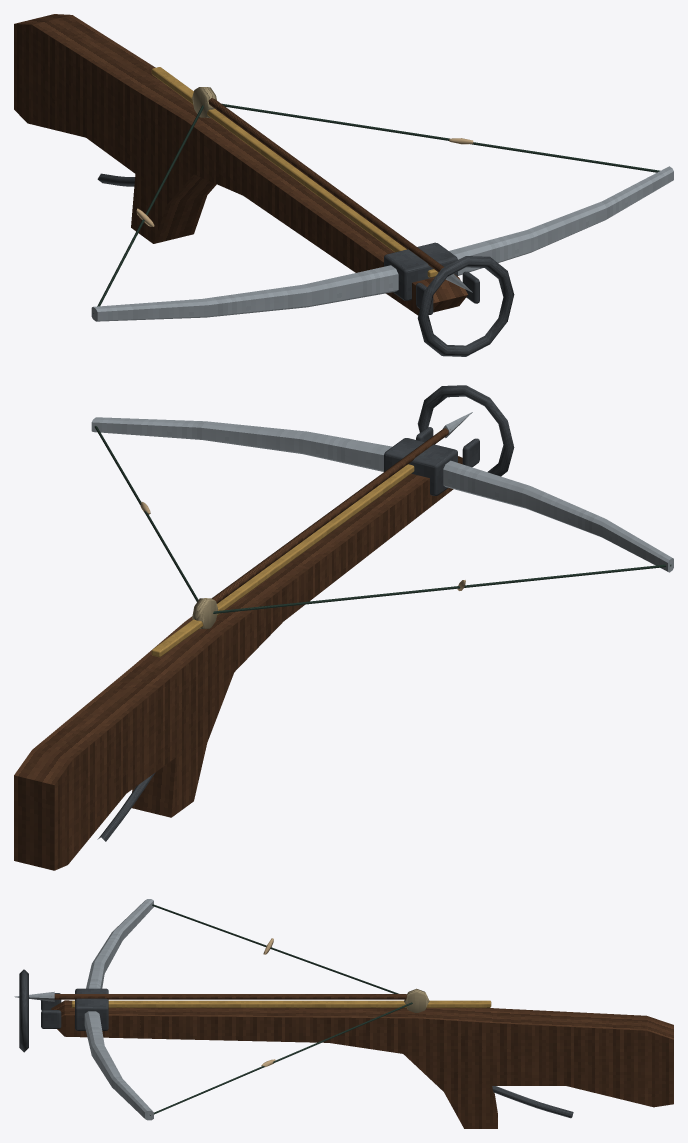
File: crossbow.lod2.glb
3 views of the same model, one above another, from view 1: azimuth 30°, elevation 25°; view 2: azimuth 150°, elevation 25°; view 3: azimuth 270°, elevation 25° (orthographic). The views are drawn at different scales.
Visible parts, largest first — view 1: wood / oiled hardwood, steel / forged blade steel, darksteel / oil-blackened fittings, brass / polished brass furniture, cord / waxed silk cord wrap, horn / polished horn and bone; view 2: wood / oiled hardwood, steel / forged blade steel, darksteel / oil-blackened fittings, brass / polished brass furniture, cord / waxed silk cord wrap; view 3: wood / oiled hardwood, steel / forged blade steel, darksteel / oil-blackened fittings, brass / polished brass furniture, cord / waxed silk cord wrap, horn / polished horn and bone.
Part boxes in pixels (x1,y1,x2,y2): wood / oiled hardwood: (14,14,467,315); steel / forged blade steel: (91,166,673,321); darksteel / oil-blackened fittings: (97,173,514,356); brass / polished brass furniture: (151,67,438,277); cord / waxed silk cord wrap: (93,103,660,313); horn / polished horn and bone: (192,87,216,117); wood / oiled hardwood: (14,428,462,870); steel / forged blade steel: (91,412,673,572); darksteel / oil-blackened fittings: (97,385,514,841); brass / polished brass furniture: (151,464,414,657); cord / waxed silk cord wrap: (94,426,671,613); wood / oiled hardwood: (51,994,673,1128); steel / forged blade steel: (14,899,153,1120); darksteel / oil-blackened fittings: (19,969,573,1118); brass / polished brass furniture: (71,1000,491,1007); cord / waxed silk cord wrap: (150,904,412,1115); horn / polished horn and bone: (404,988,429,1012).
Bounding box in the file's own units: 0.7423 × 0.242 × 0.975.
7 materials, 6 textured.
